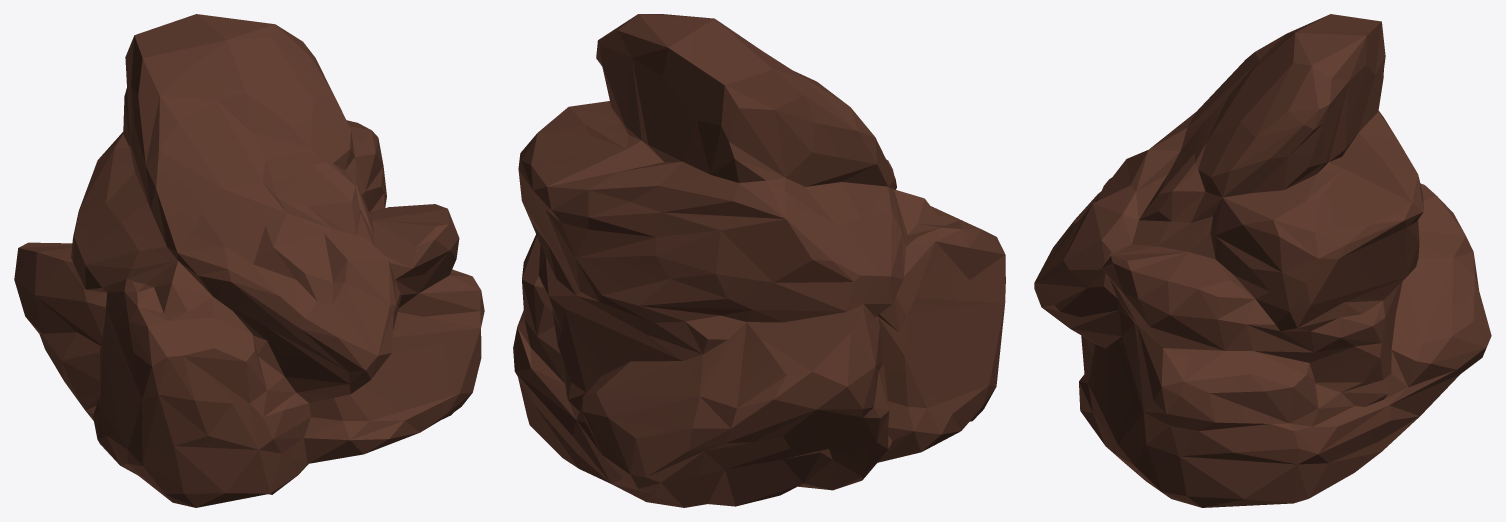
The model's file is entity103582.glb.
3 renders of one model, left to right at view 1: azimuth 30°, elevation 25°; view 2: azimuth 150°, elevation 25°; view 3: azimuth 270°, elevation 25°, orthographic. The views are drawn at different scales.
Parts seen in each view (by area): view 1: node_SM_Env_Rock_Large_03 (2); view 2: node_SM_Env_Rock_Large_03 (2); view 3: node_SM_Env_Rock_Large_03 (2).
Part boxes in pixels (bbox=[...]): node_SM_Env_Rock_Large_03 (2): bbox=[14, 14, 484, 507]; node_SM_Env_Rock_Large_03 (2): bbox=[513, 14, 1005, 507]; node_SM_Env_Rock_Large_03 (2): bbox=[1034, 14, 1491, 507].
Size of the model in its own units: 13.67 by 13.78 by 14.48.
1 material, 1 textured.
